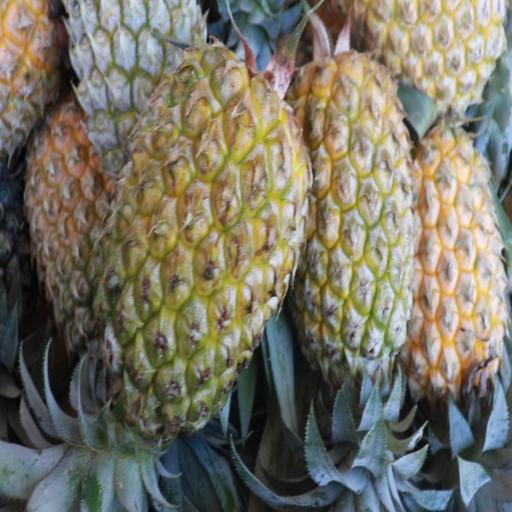Pineapple - v8 v1: (98, 60, 305, 421), (288, 58, 413, 370), (405, 120, 511, 390), (347, 0, 512, 124)
